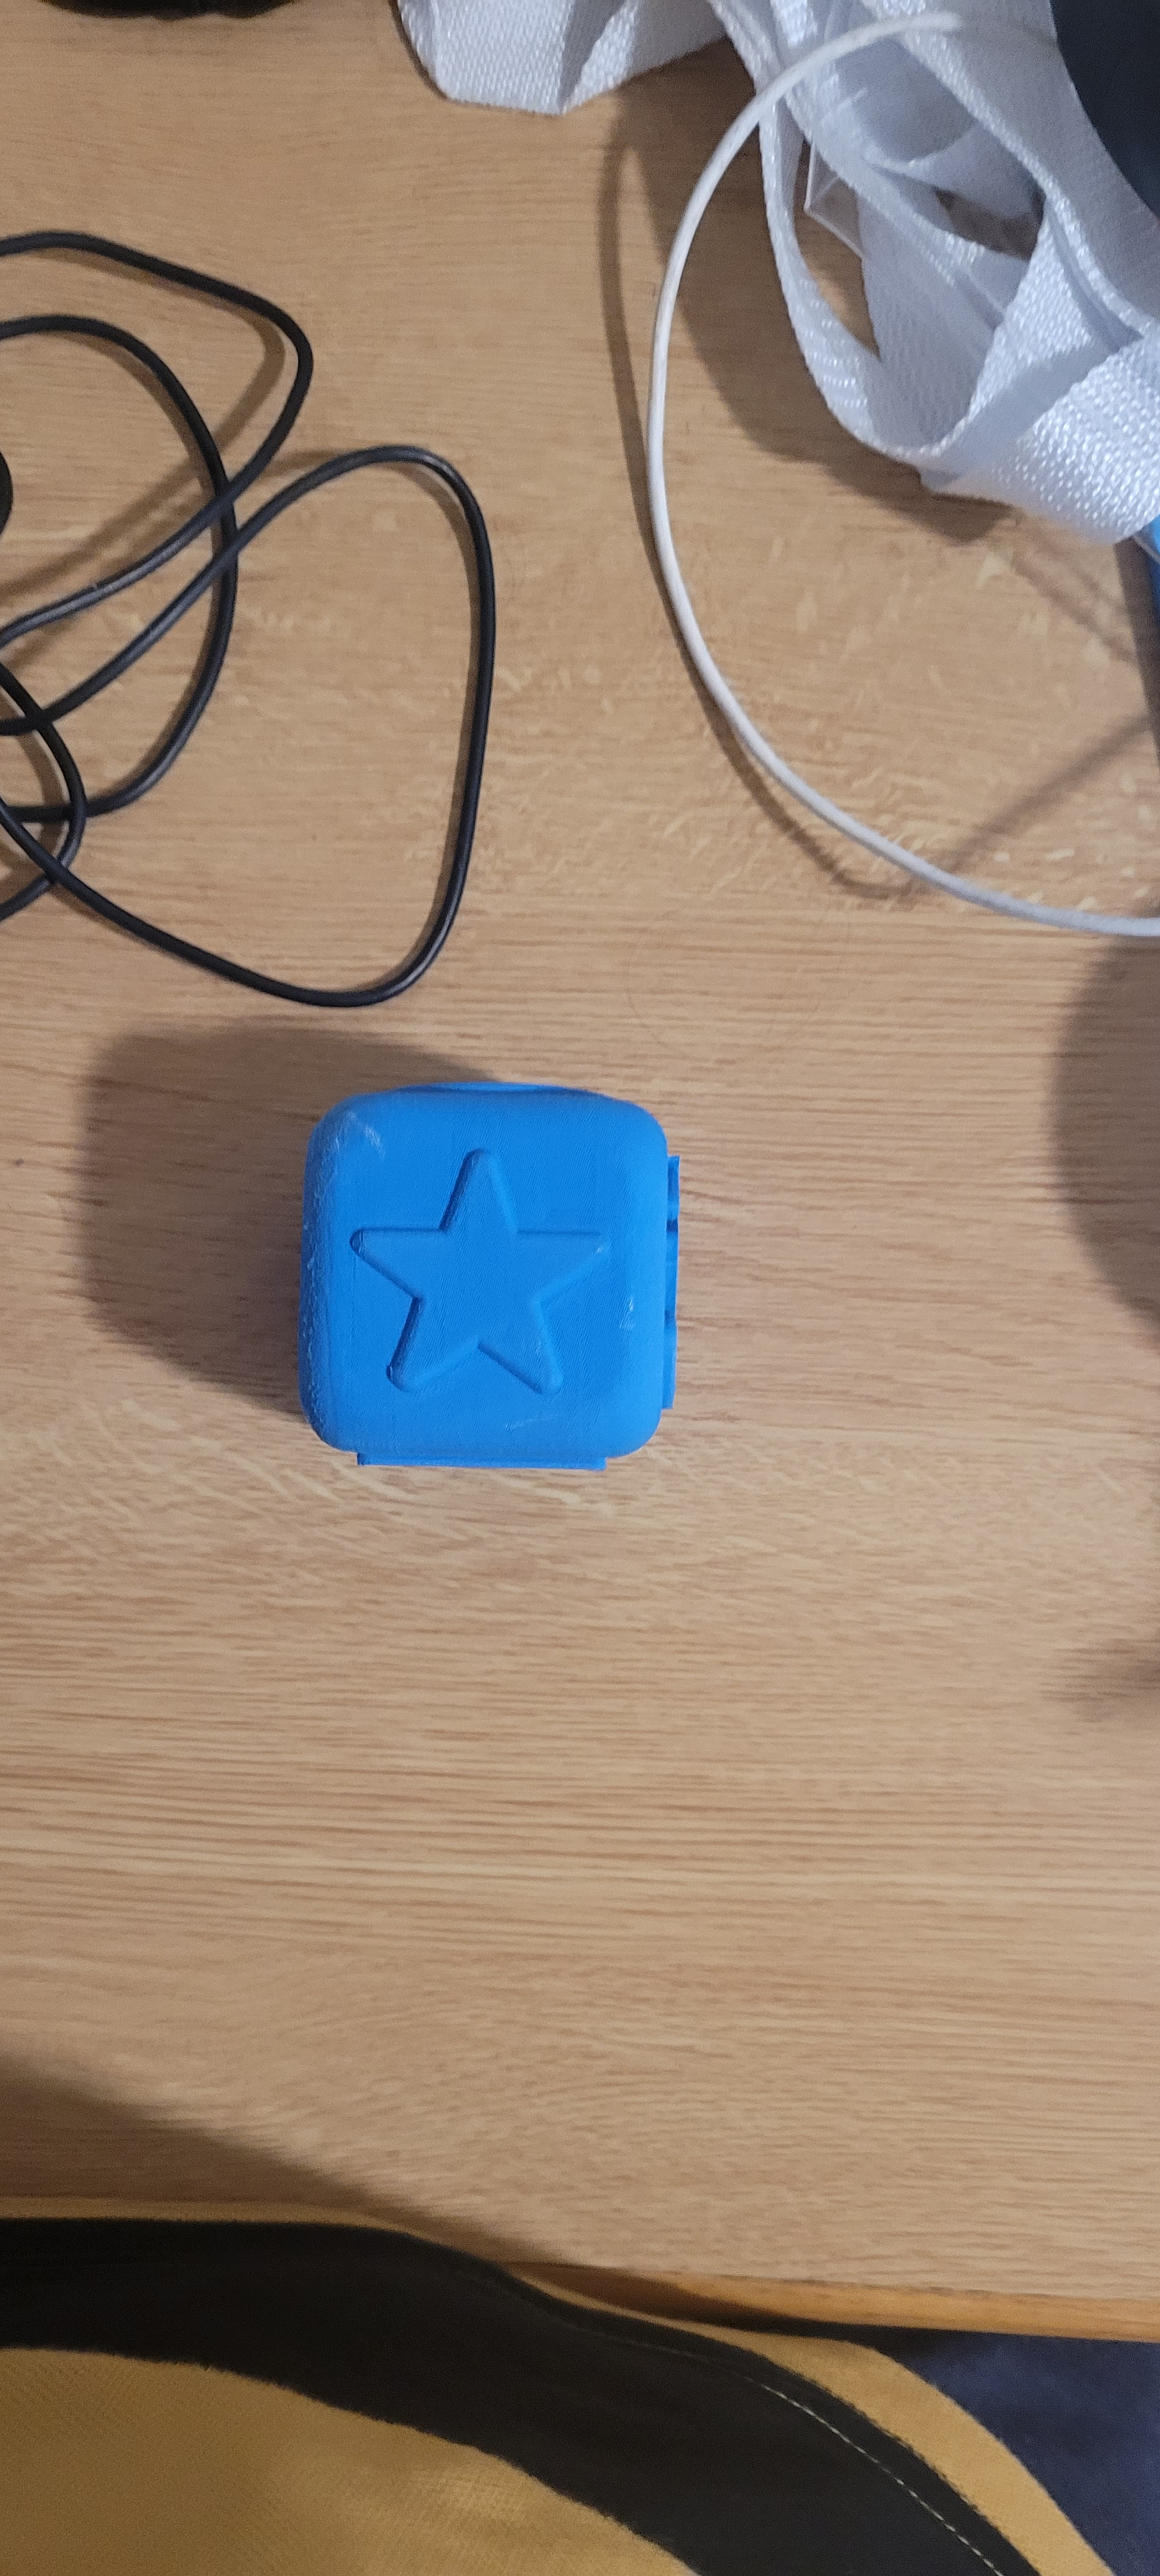Star: (274, 1086, 679, 1487)
